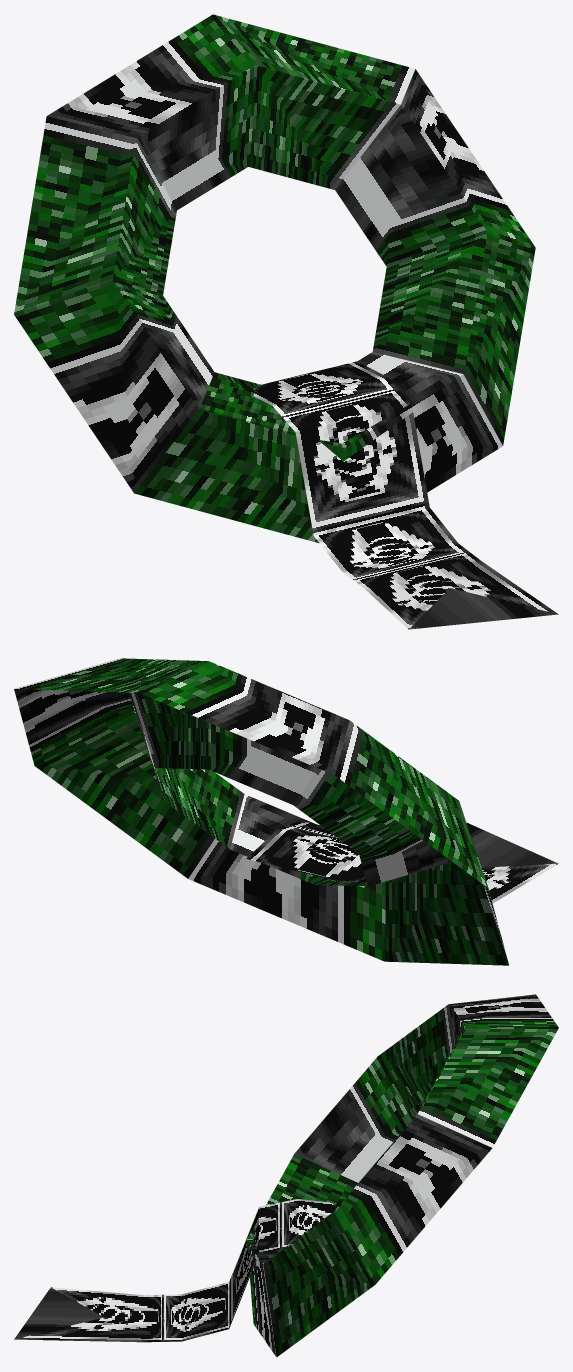
The model's file is KranzGrün_78.glb.
The picture shows the model from 3 angles, top to bottom: view 1: azimuth 30°, elevation 25°; view 2: azimuth 150°, elevation 25°; view 3: azimuth 270°, elevation 25°; orthographic projection. The views are drawn at different scales.
Visible parts, largest first — view 1: pTorusShape4, pPlaneShape13; view 2: pTorusShape4, pPlaneShape13; view 3: pTorusShape4, pPlaneShape13.
Boxes of the visible parts, <box> form: pTorusShape4: <box>14,14,535,542</box>; pPlaneShape13: <box>253,361,558,629</box>; pTorusShape4: <box>14,658,508,965</box>; pPlaneShape13: <box>246,821,558,903</box>; pTorusShape4: <box>247,994,558,1357</box>; pPlaneShape13: <box>14,1199,338,1342</box>.
Size of the model in its own units: 0.1444 by 0.1095 by 0.1688.
Materials: 2 (2 with a texture image).
